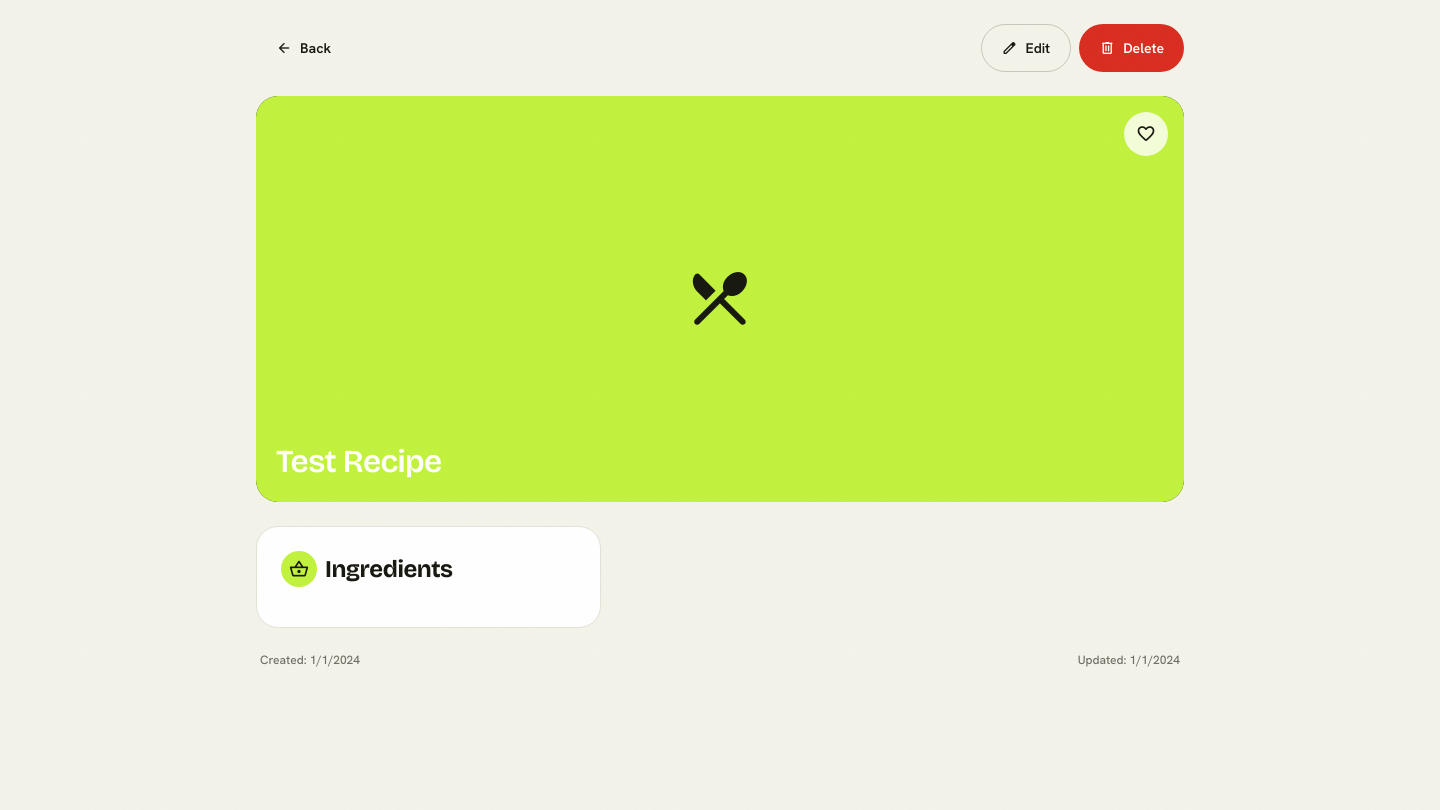
Test: RecipeDetail Page › delete functionality › should show error toast on deletion error
Click the button "Delete" at coordinates (1132, 48), box [1079,24,1184,72]
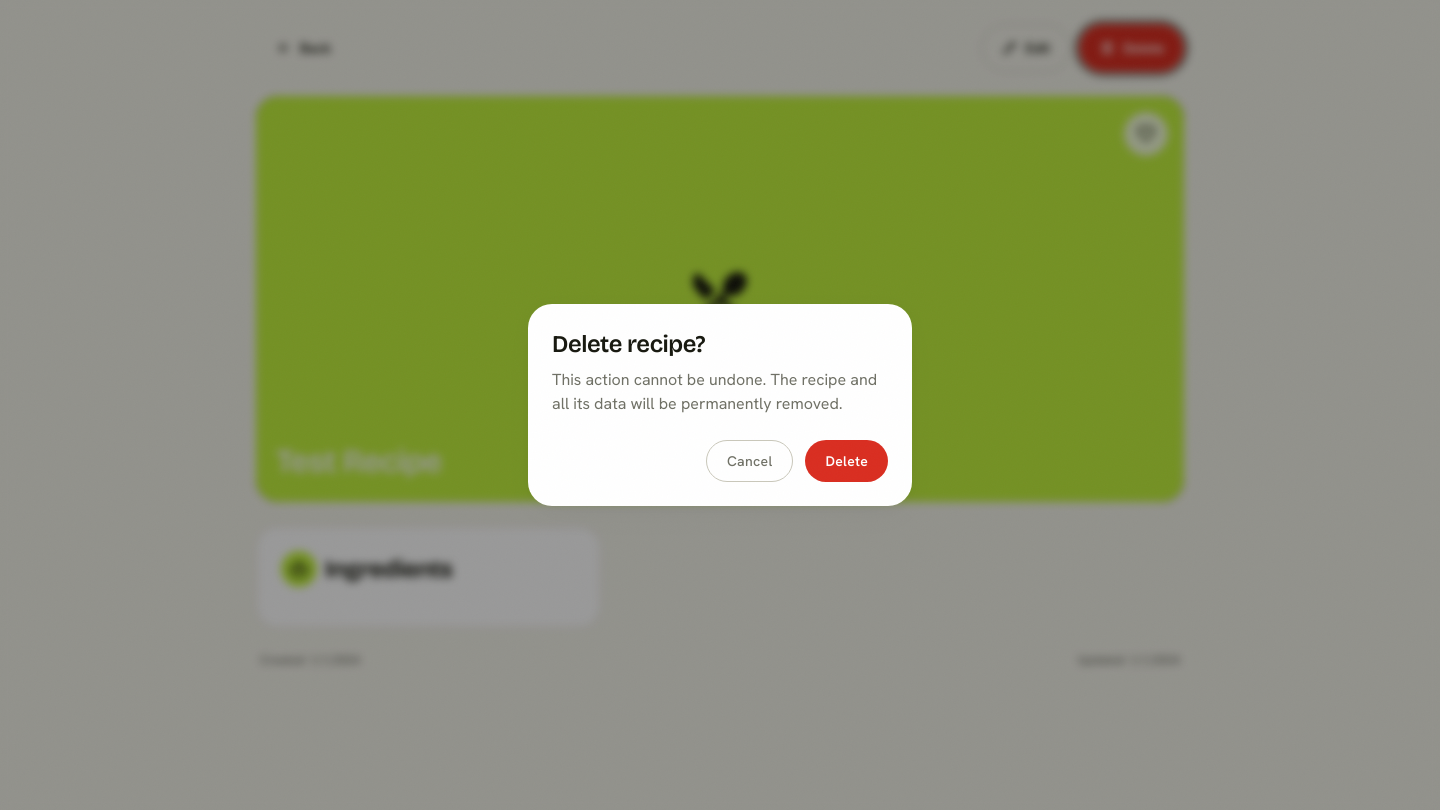
Click the button "Delete" at coordinates (847, 461), box [806,440,888,482]
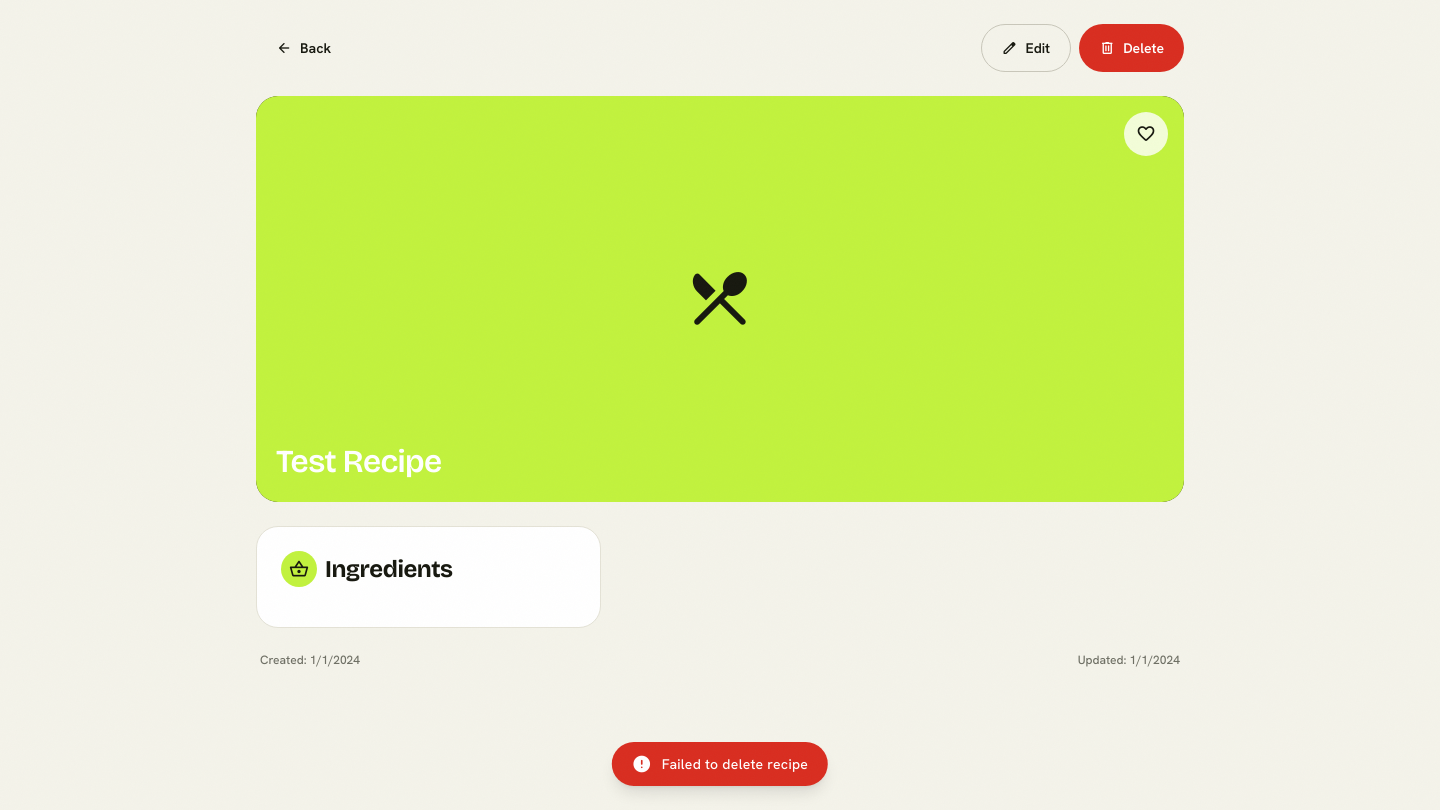
Now the text "Failed to delete recipe" is shown, box [612,742,828,786]
